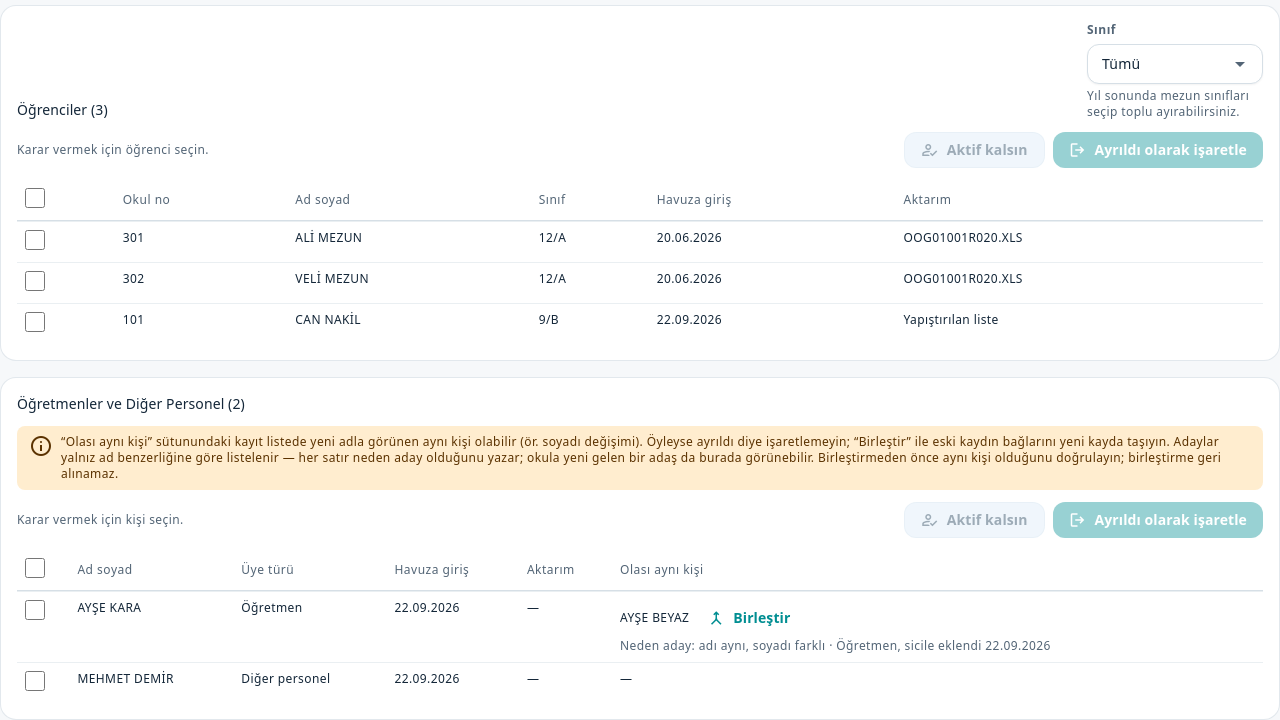
Scenario: AyrilisHavuzu — karar › tek kişi “Aktif kalsın”: onaysız, yalnız havuzdan çıkar
The width and height of the screenshot is (1280, 720).
(page scrolled)
Expected: the heading "Öğrenciler (3)" is shown, [17,100,108,120]
Click the checkbox named "MEHMET DEMİR seç". click: (35, 681)
box: [25,671,45,691]
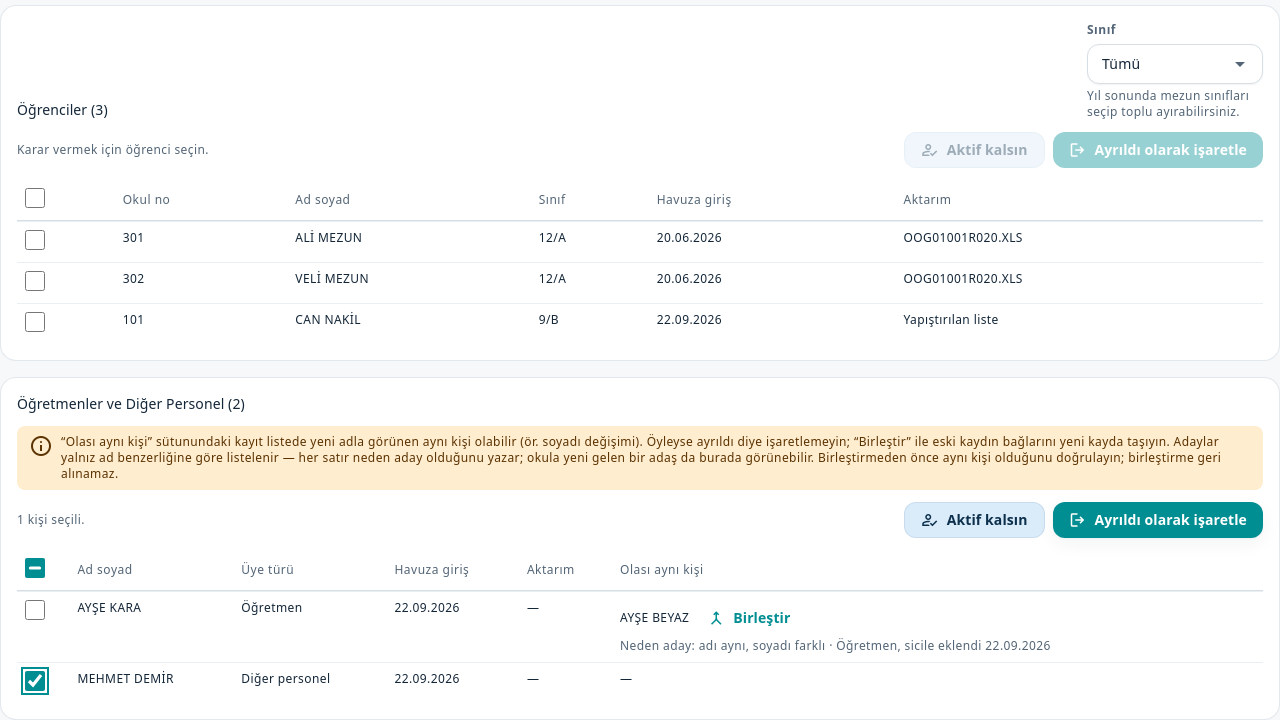
Click the button "Aktif kalsın" in the row of "1 kişi seçili.". click: (974, 520)
box: [904,502,1044,538]
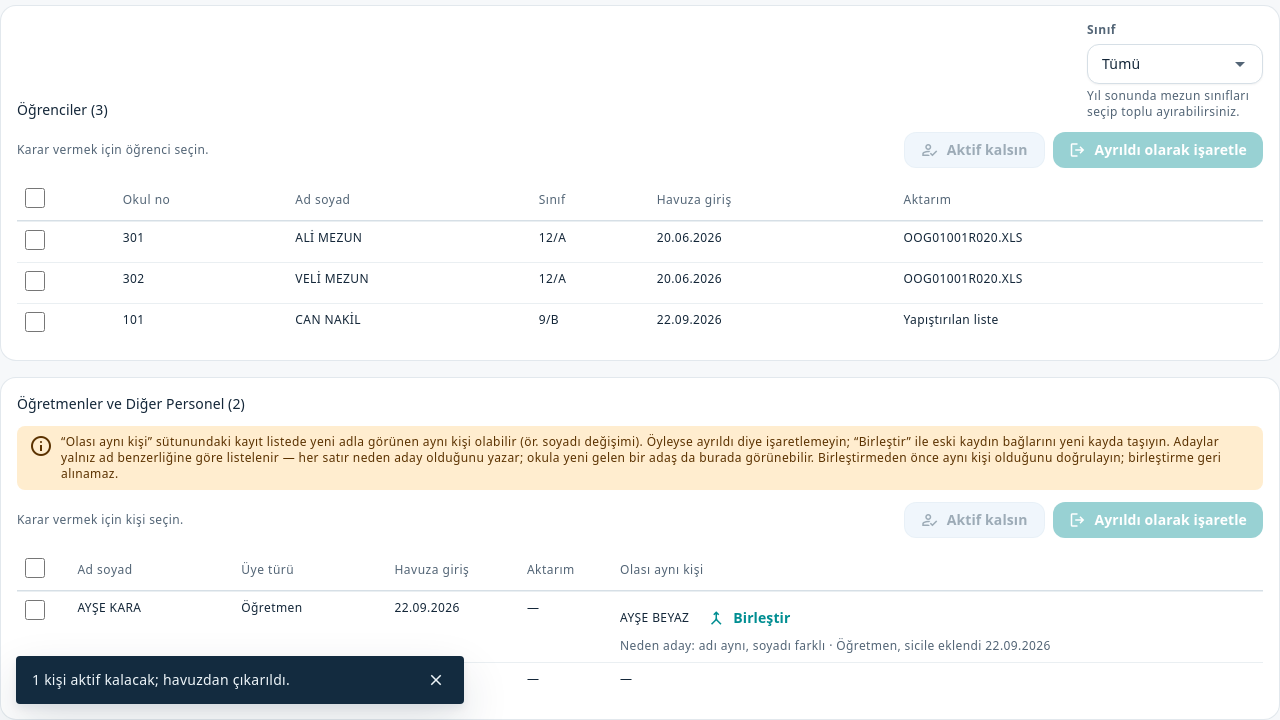
Expected: the text "1 kişi aktif kalacak; havuzdan çıkarıldı." is shown, [32,670,290,689]
